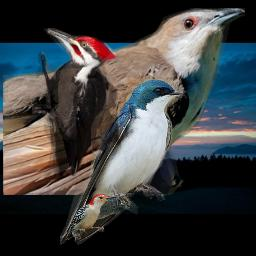Cuckoo: (3, 8, 245, 195)
Swallow: (60, 79, 183, 245)
Woodpecker: (32, 28, 121, 176), (65, 194, 117, 240)
